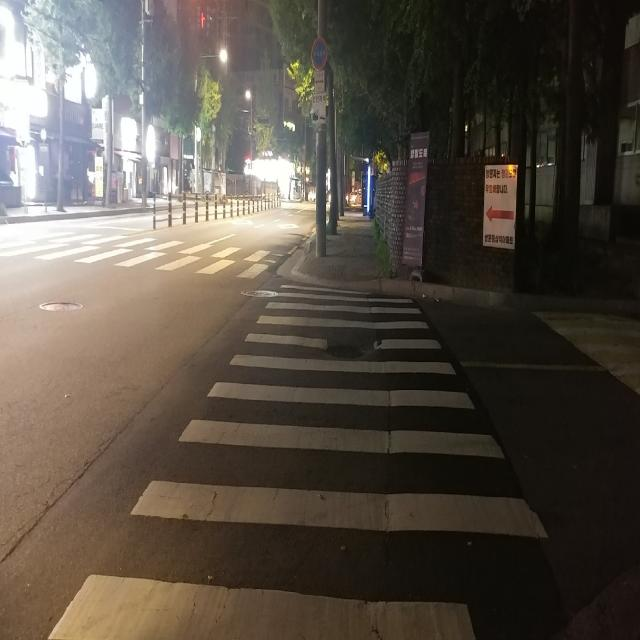횡단보도: (48, 283, 548, 640), (0, 228, 282, 273)
